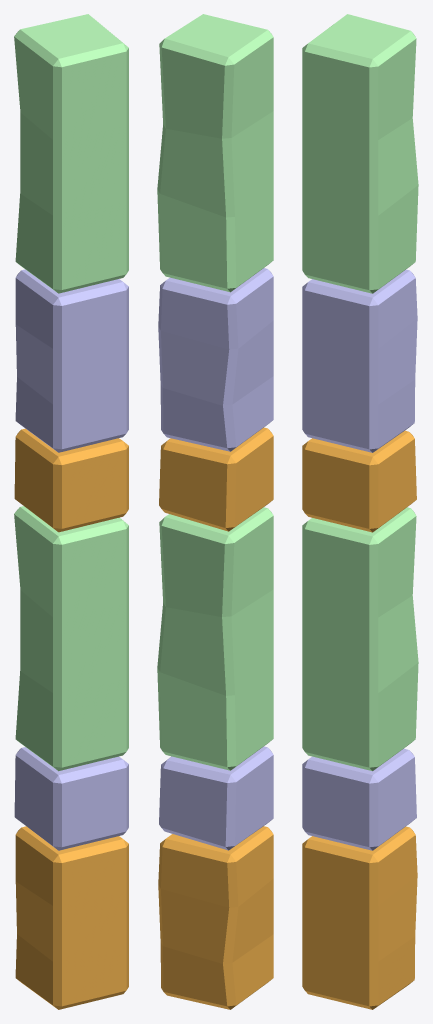
Rendered from Stone_L24.fbx.
3 views of the same model, side by side, from view 1: azimuth 30°, elevation 25°; view 2: azimuth 150°, elevation 25°; view 3: azimuth 330°, elevation 25° (orthographic).
Visible parts, largest first — view 1: Stone; view 2: Stone; view 3: Stone.
Boxes of the visible parts, x1,y1,x2,y2 form: Stone: [14, 14, 128, 1009]; Stone: [157, 14, 273, 1009]; Stone: [302, 14, 418, 1009].
Bounding box in the file's own units: 2.12 × 23.99 × 2.08.
